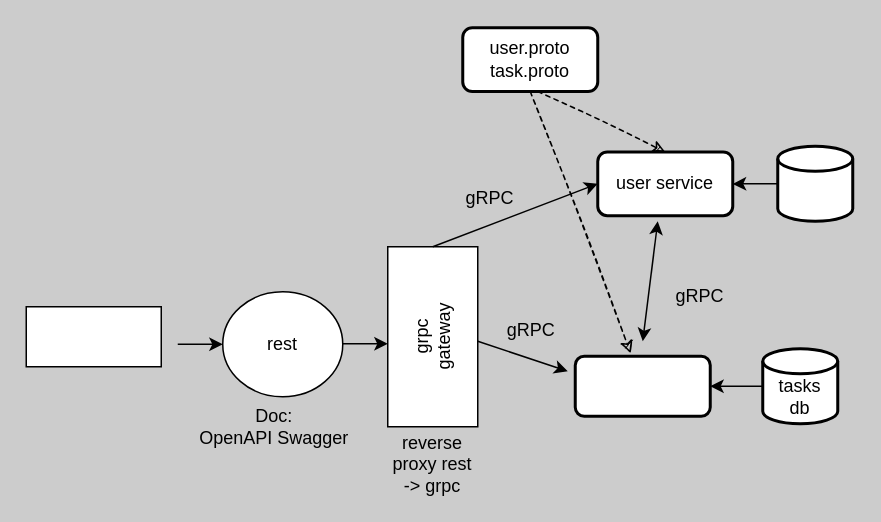
This 881x522 diagram has some shape labels left out. The shapes that lost their labels are listed below. From the top down, each one's centre as x and y in pixels, then its label:
At point 815,183: "users db".
At point 93,336: "client".
At point 642,385: "task service".
